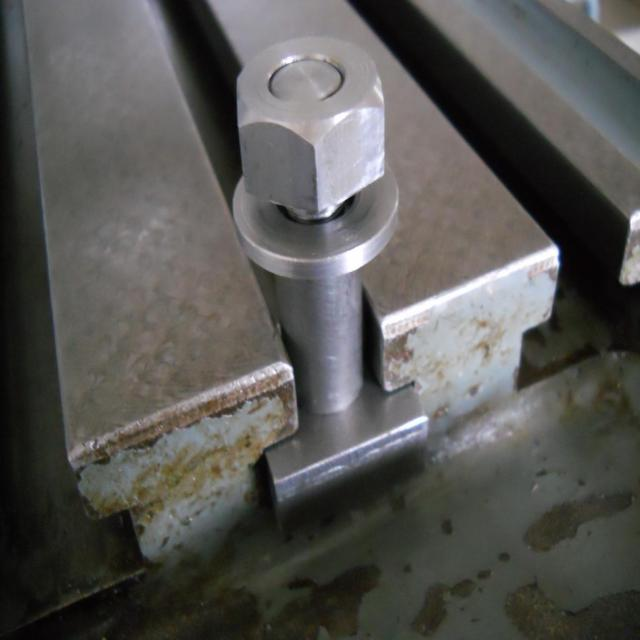bolt nut: (236, 30, 387, 218)
